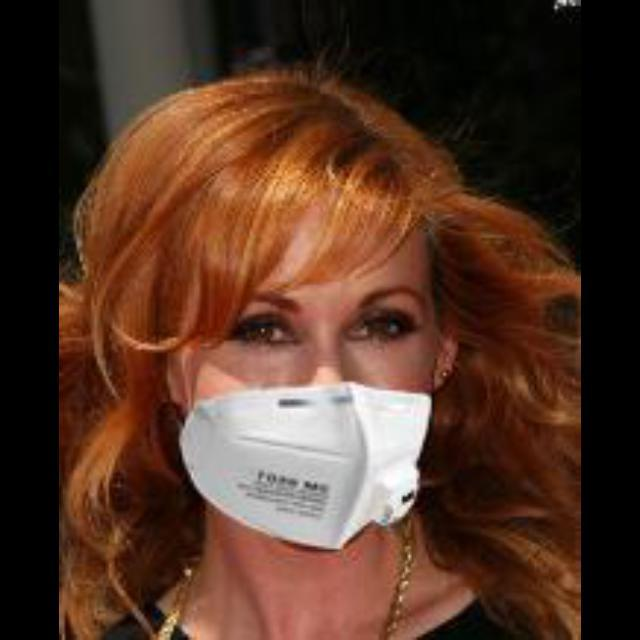suspicion: (166, 126, 472, 548)
